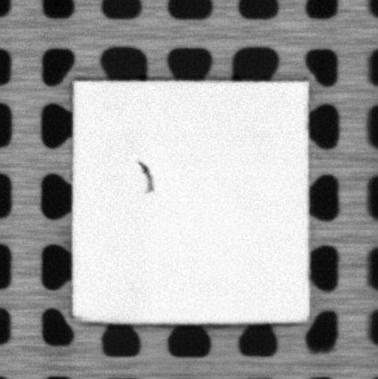DIE_INK: (138, 159, 153, 194)
